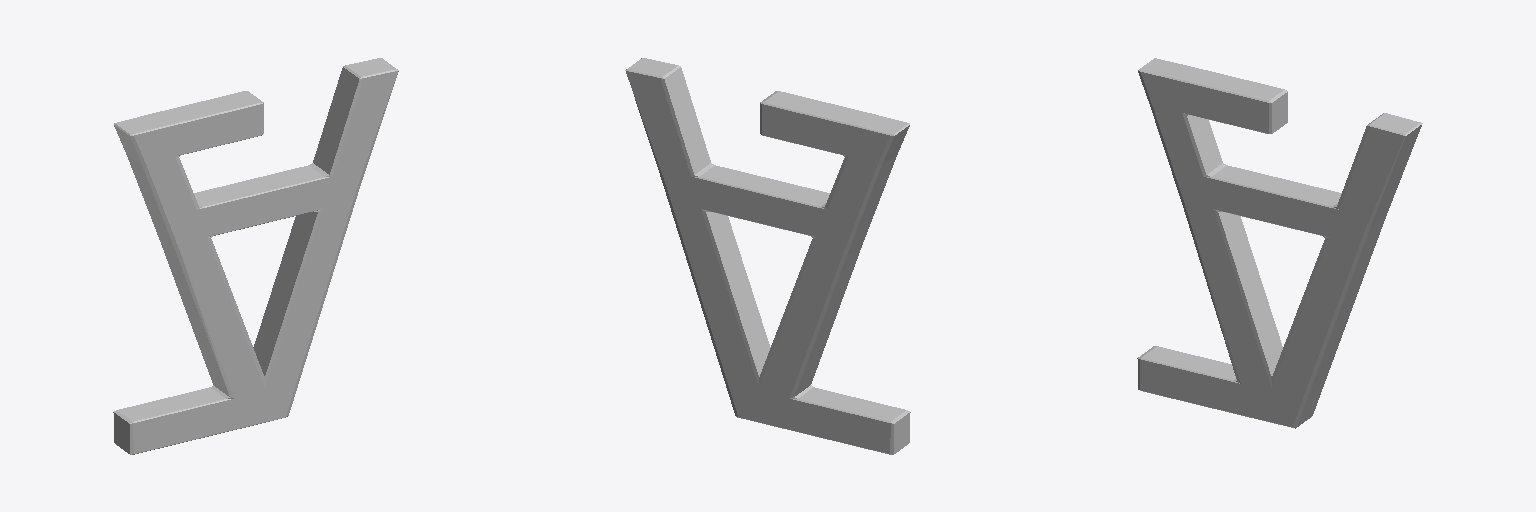
The model's file is zack.obj.
3 views of the same model, side by side, from view 1: azimuth 30°, elevation 25°; view 2: azimuth 150°, elevation 25°; view 3: azimuth 330°, elevation 25° (orthographic).
Parts seen in each view (by area): view 1: Cube; view 2: Cube; view 3: Cube.
Boxes of the visible parts, x1=… form: Cube: x1=113, y1=58, x2=398, y2=454; Cube: x1=625, y1=58, x2=910, y2=454; Cube: x1=1137, y1=58, x2=1422, y2=428.
Bounding box in the file's own units: 2.32 × 2.66 × 0.258.